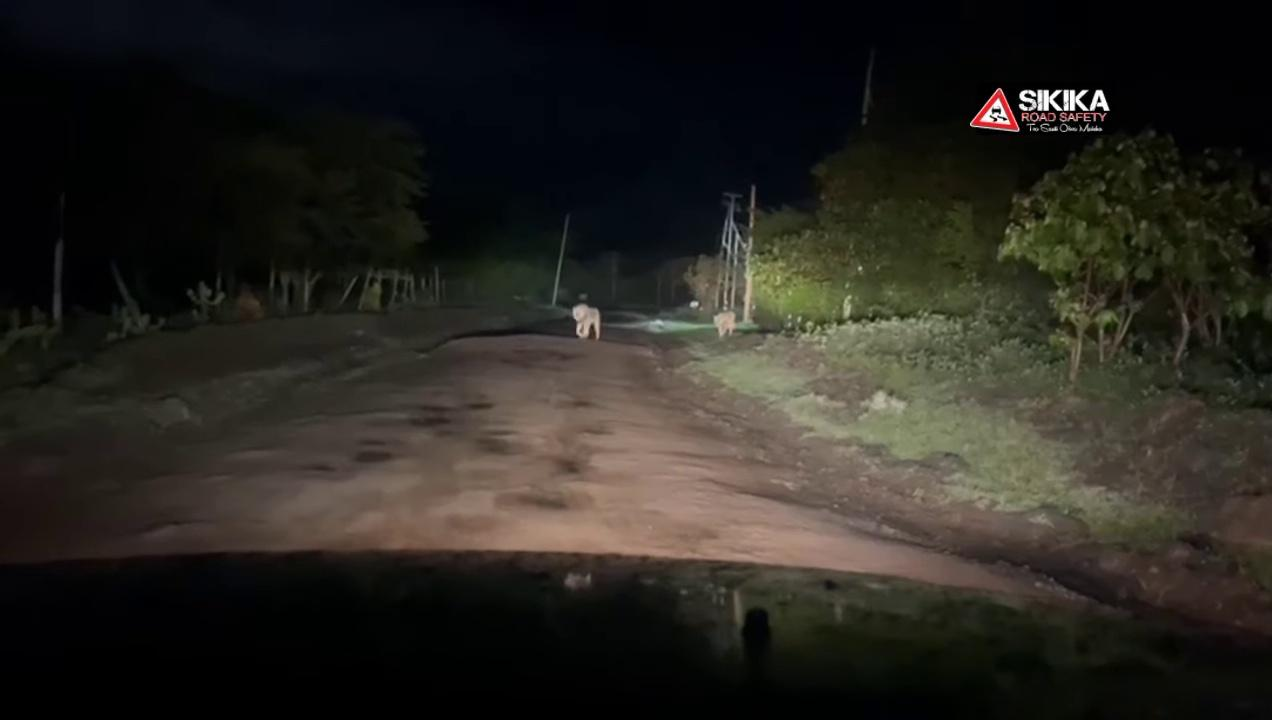lions: (560, 291, 615, 342)
